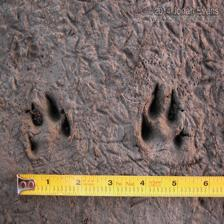rabbit: (135, 82, 196, 165), (21, 91, 79, 161)
